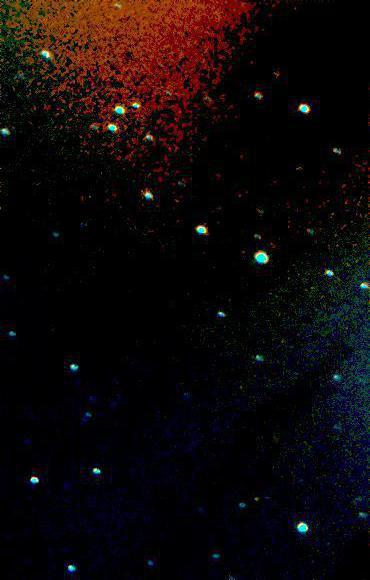star: (243, 484, 273, 514)
